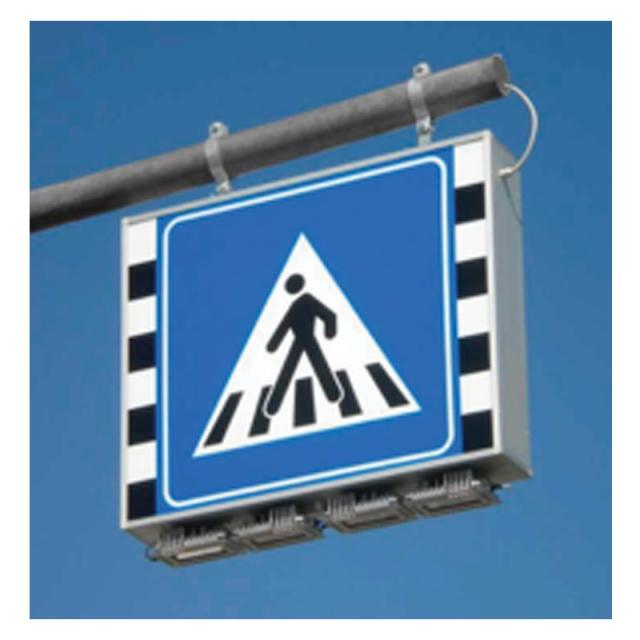Pedestrian crosswalk: (155, 145, 462, 518)
